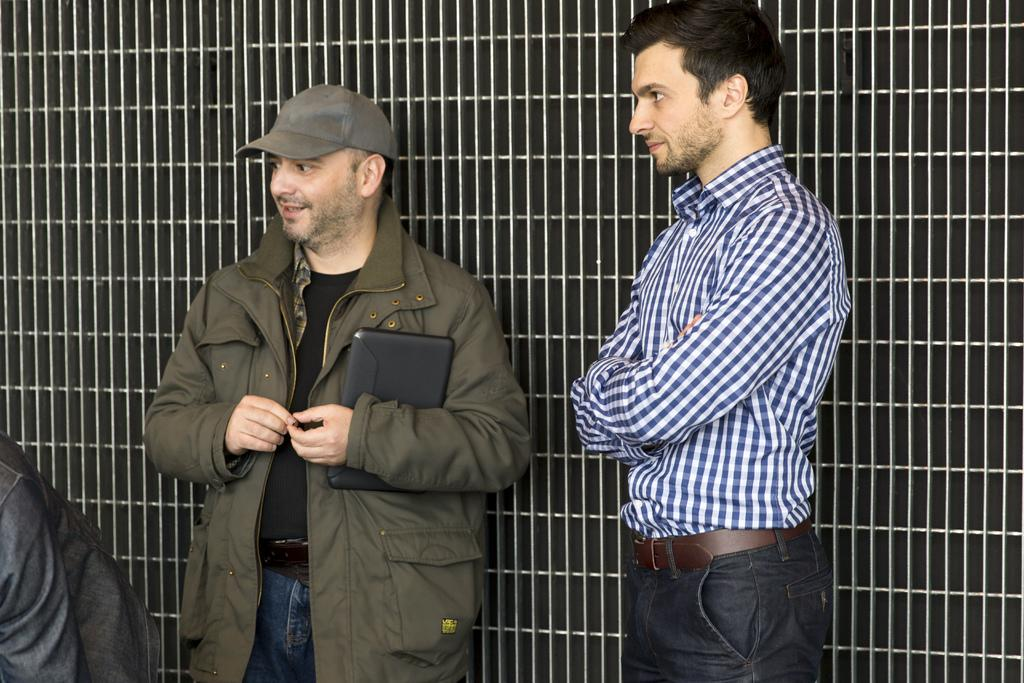Hat: (240, 86, 394, 182)
